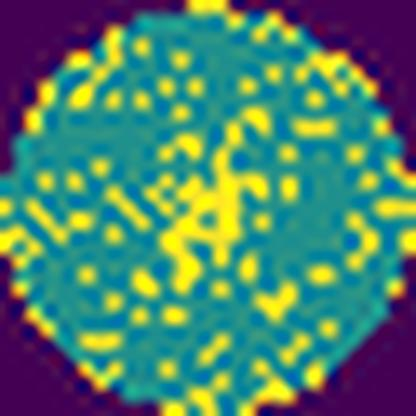Center: (155, 106, 278, 300)
